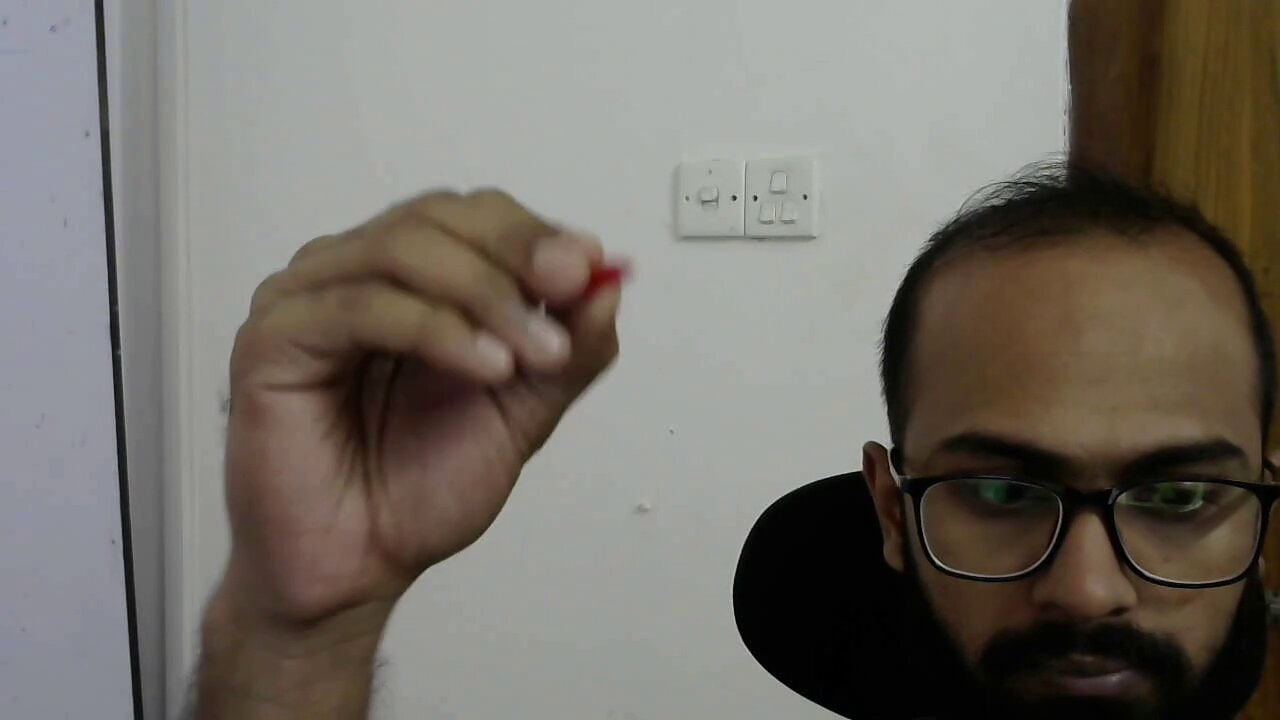pointer: (227, 183, 631, 524)
